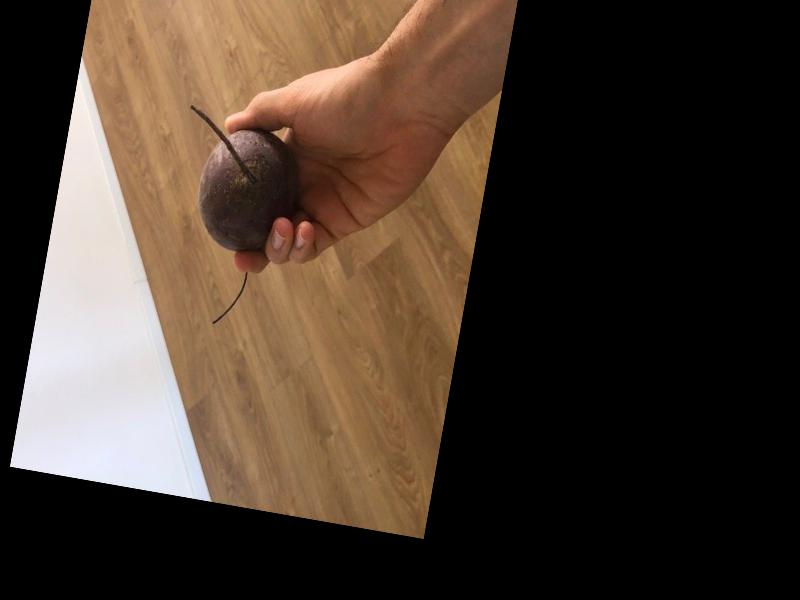Beet: (154, 106, 309, 335)
